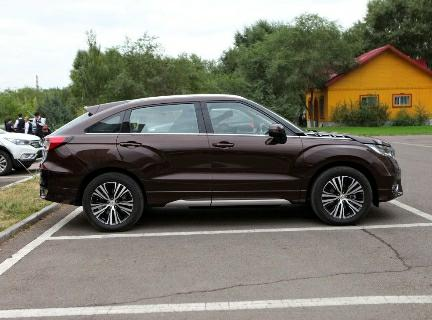car: (28, 81, 412, 242)
